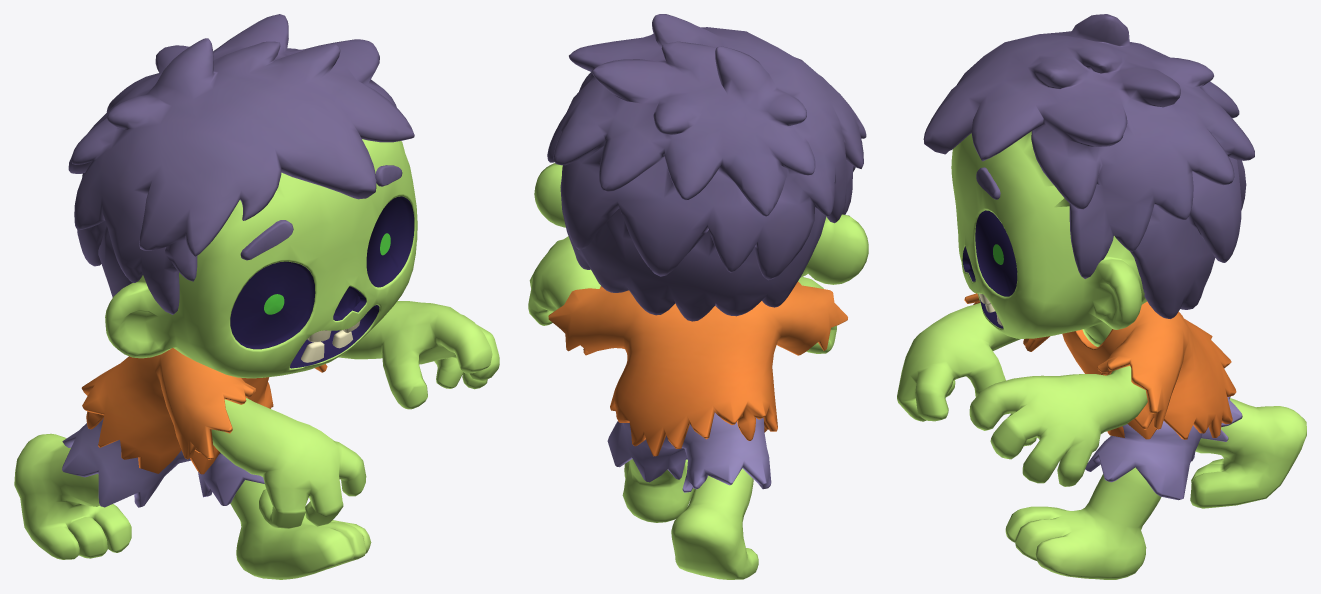
The model's file is WBA_Character_zombie_01.fbx.
3 views of the same model, side by side, from view 1: azimuth 30°, elevation 25°; view 2: azimuth 150°, elevation 25°; view 3: azimuth 270°, elevation 25° (orthographic). The views are drawn at different scales.
Visible parts, largest first — view 1: WBA_Character_zombie_01; view 2: WBA_Character_zombie_01; view 3: WBA_Character_zombie_01.
Part boxes in pixels (x1=…): WBA_Character_zombie_01: x1=14, y1=14, x2=499, y2=579; WBA_Character_zombie_01: x1=528, y1=14, x2=868, y2=579; WBA_Character_zombie_01: x1=897, y1=14, x2=1306, y2=579.
Bounding box in the file's own units: 105 × 144 × 102.
